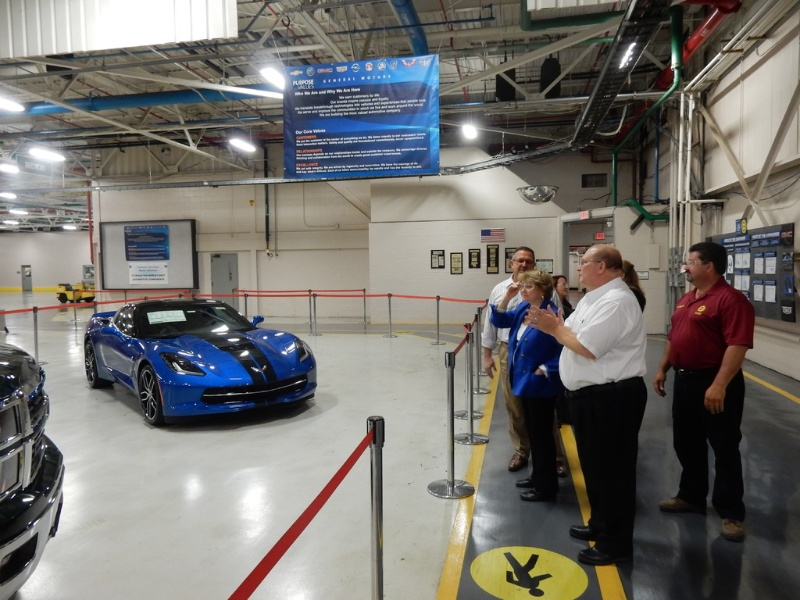person: (666, 239, 754, 502), (572, 242, 646, 551), (506, 273, 560, 474), (495, 246, 536, 274)
